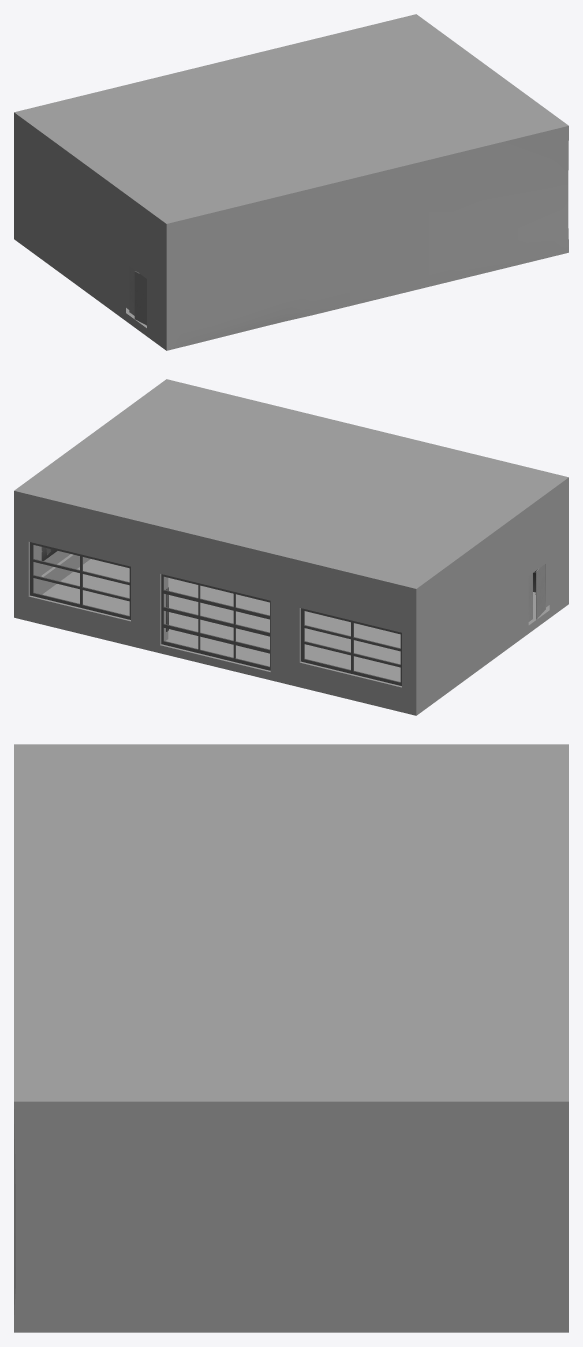
File: t-Door.fbx
The picture shows the model from 3 angles, top to bottom: view 1: azimuth 30°, elevation 25°; view 2: azimuth 150°, elevation 25°; view 3: azimuth 270°, elevation 25°; orthographic projection. The views are drawn at different scales.
Parts seen in each view (by area): view 1: waiqiang, polySurface17; view 2: waiqiang, dimian, pCube38, qiangbi, polySurface17_2, polySurface341, polySurface17; view 3: waiqiang.
Boxes of the visible parts, x1,y1,x2,y2 form: waiqiang: (14,14,568,350); polySurface17: (134,271,146,325); waiqiang: (14,379,568,715); dimian: (42,559,535,681); pCube38: (161,574,270,670); qiangbi: (28,542,549,687); polySurface17_2: (301,608,401,685); polySurface341: (30,542,130,619); polySurface17: (536,564,544,619); waiqiang: (14,744,568,1332).
Size of the model in its own units: 1870 by 564 by 1228.
20 materials, 12 textured.
